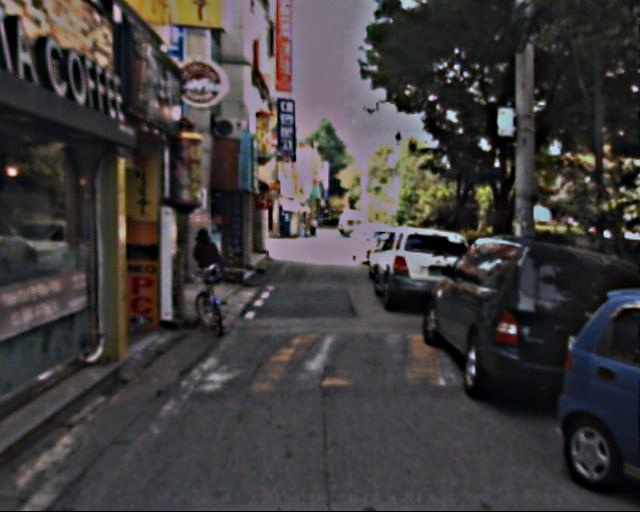person: (188, 225, 223, 310)
